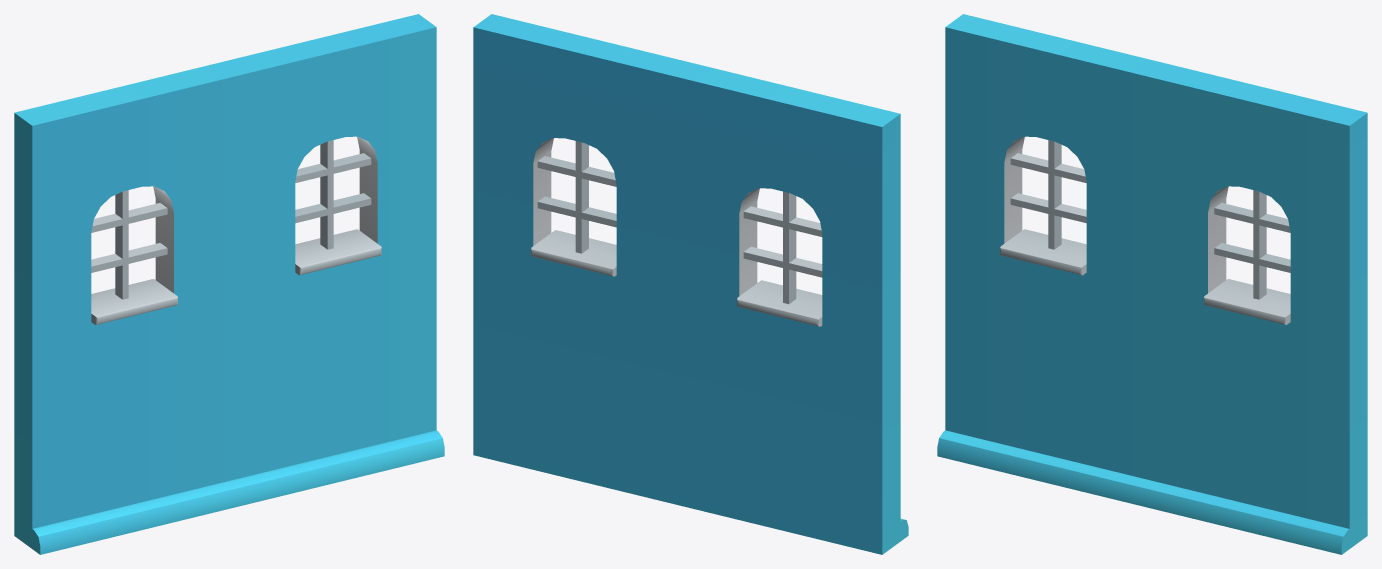
File: Wall001.fbx
The picture shows the model from 3 angles, left to right: view 1: azimuth 30°, elevation 25°; view 2: azimuth 150°, elevation 25°; view 3: azimuth 330°, elevation 25°; orthographic projection.
Visible parts, largest first — view 1: Wall001; view 2: Wall001; view 3: Wall001.
Boxes of the visible parts, left/top/right/bottom form: Wall001: left=14, top=14, right=444, bottom=554; Wall001: left=473, top=14, right=908, bottom=554; Wall001: left=937, top=14, right=1367, bottom=554.
Bounding box in the file's own units: 250 × 250 × 31.39.
